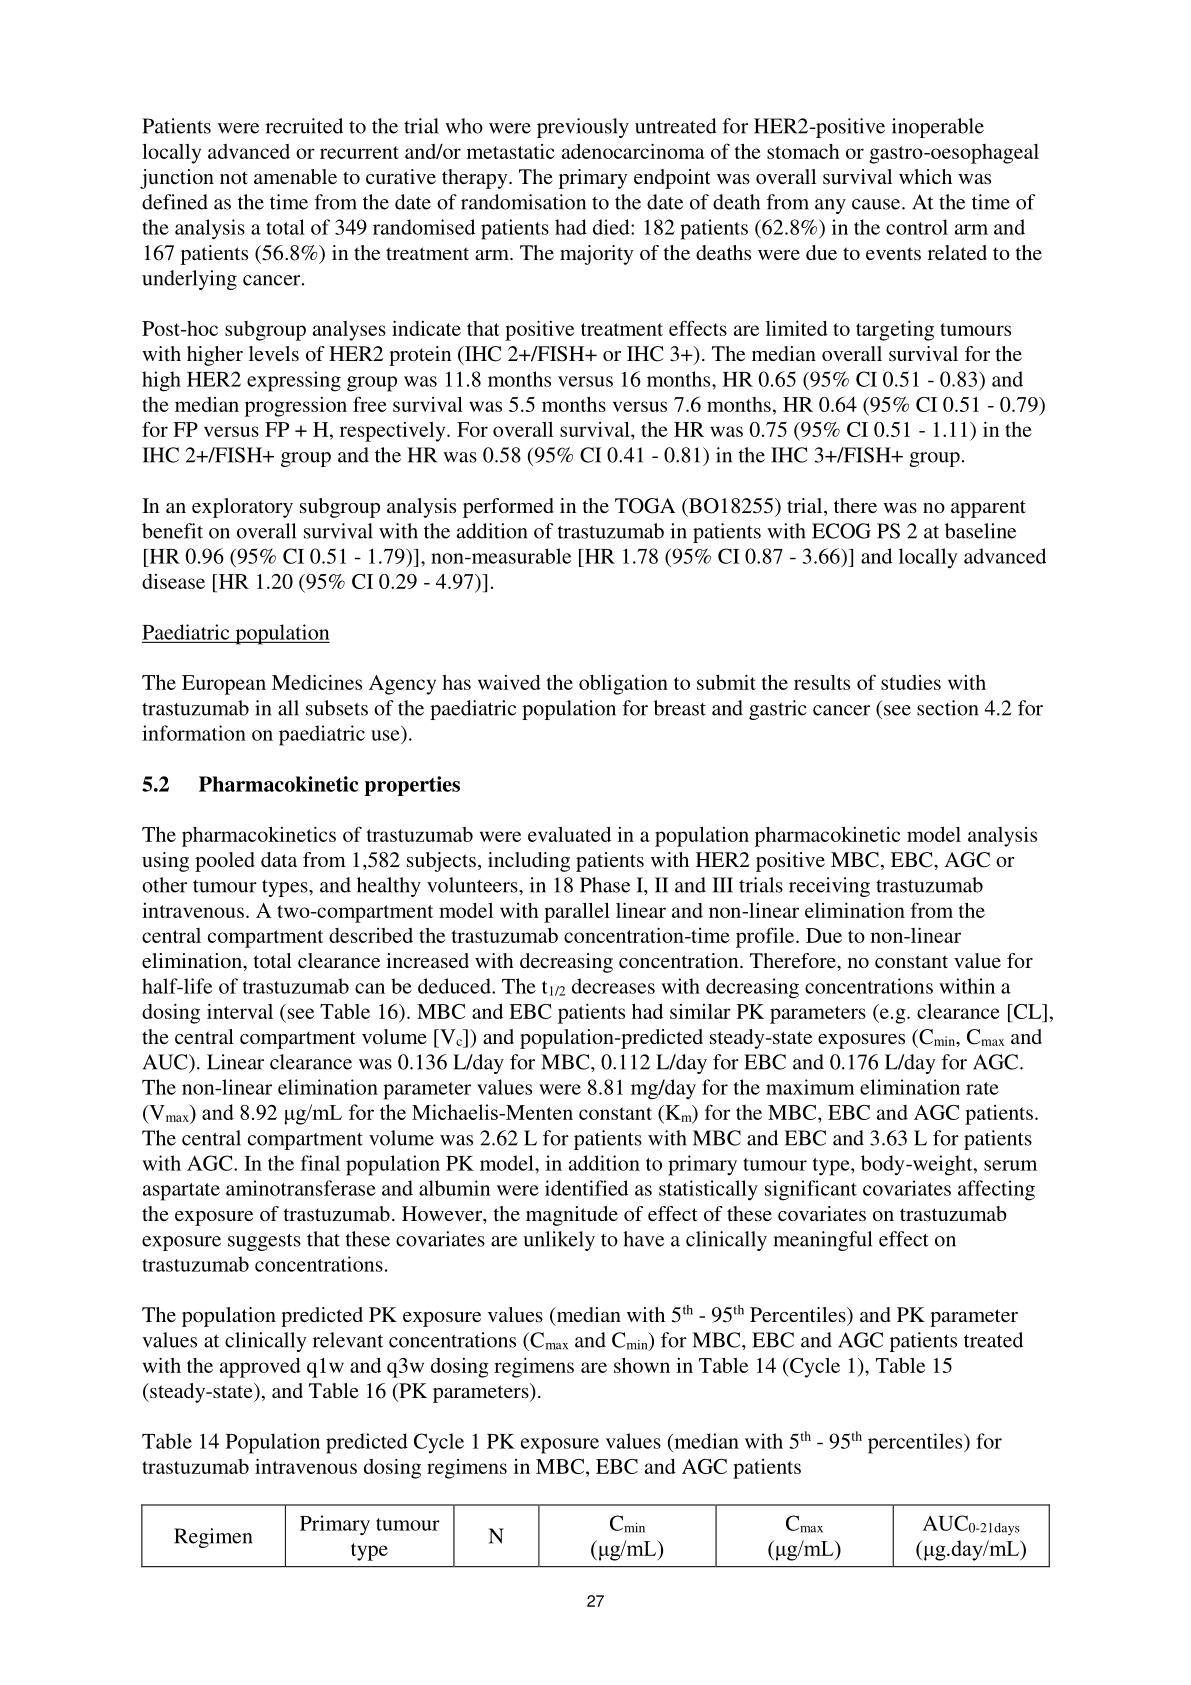full_lined: (140, 1503, 1051, 1568)
